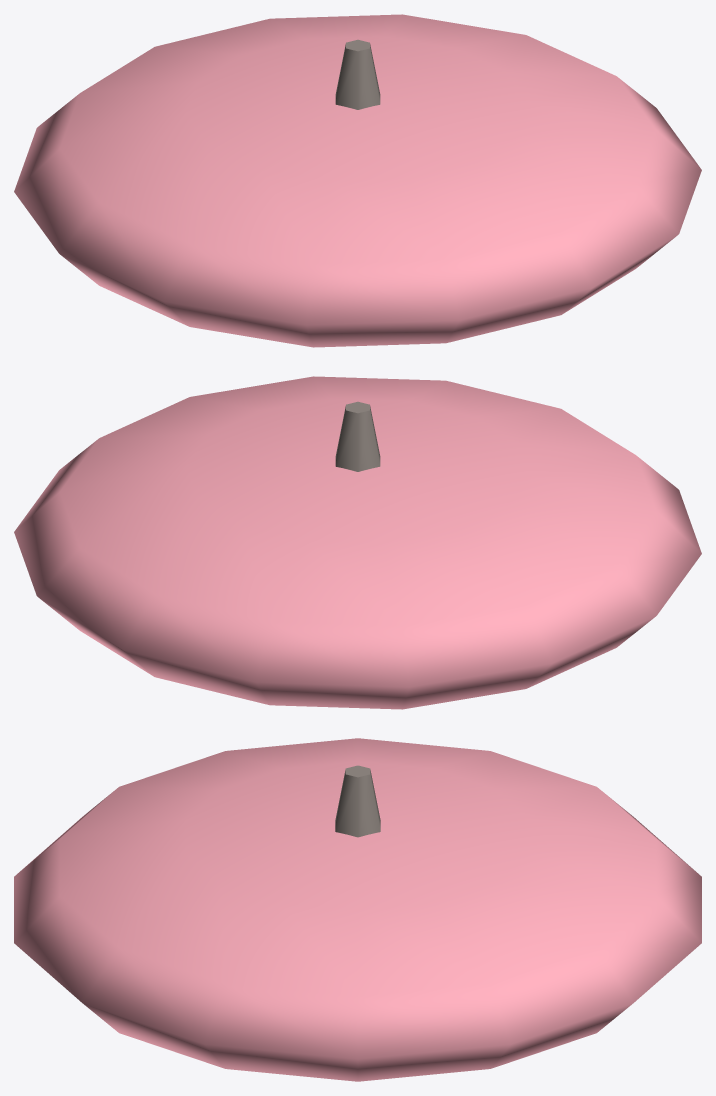
File: hat_beret.glb
The picture shows the model from 3 angles, top to bottom: view 1: azimuth 30°, elevation 25°; view 2: azimuth 150°, elevation 25°; view 3: azimuth 270°, elevation 25°; orthographic projection. The views are drawn at different scales.
Visible parts, largest first — view 1: hat_beret; view 2: hat_beret; view 3: hat_beret.
Boxes of the visible parts, box(x1,y1,x2,y2) form: hat_beret: box(14, 14, 701, 347); hat_beret: box(14, 376, 701, 709); hat_beret: box(14, 738, 701, 1081).
Size of the model in its own units: 30 by 10.5 by 29.25.
